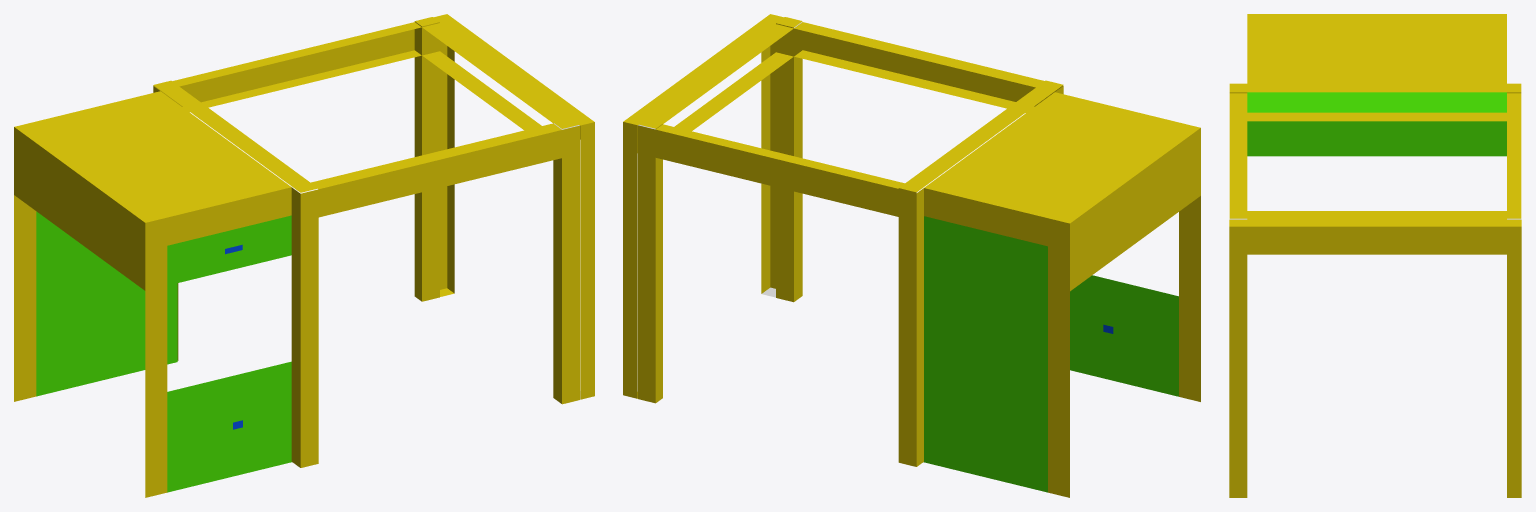
File: teacherdeskcolorbroken.glb
The picture shows the model from 3 angles, left to right: view 1: azimuth 30°, elevation 25°; view 2: azimuth 150°, elevation 25°; view 3: azimuth 270°, elevation 25°; orthographic projection.
Visible parts, largest first — view 1: Cube; view 2: Cube; view 3: Cube.
Boxes of the visible parts, x1,y1,x2,y2 form: Cube: (14, 14, 594, 497); Cube: (623, 14, 1200, 497); Cube: (1229, 14, 1521, 497).
Size of the model in its own units: 2.67 by 1.6 by 1.55.
